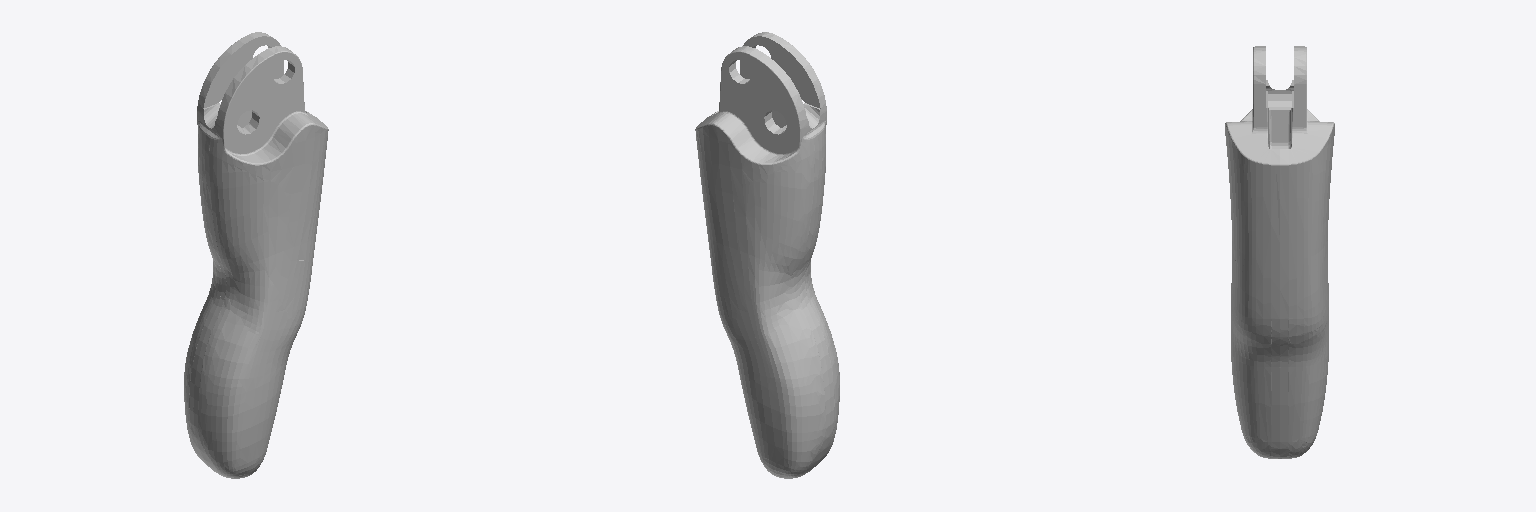
The picture shows the model from 3 angles: view 1: azimuth 30°, elevation 25°; view 2: azimuth 150°, elevation 25°; view 3: azimuth 270°, elevation 25°; orthographic projection.
Visible parts, largest first — view 1: Link16_L; view 2: Link16_L; view 3: Link16_L.
Part boxes in pixels (x1,y1,x2,y2): Link16_L: (184,32,328,478); Link16_L: (695,32,839,478); Link16_L: (1225,46,1334,458).
Bounding box in the file's own units: 0.0165 × 0.0532 × 0.0126.